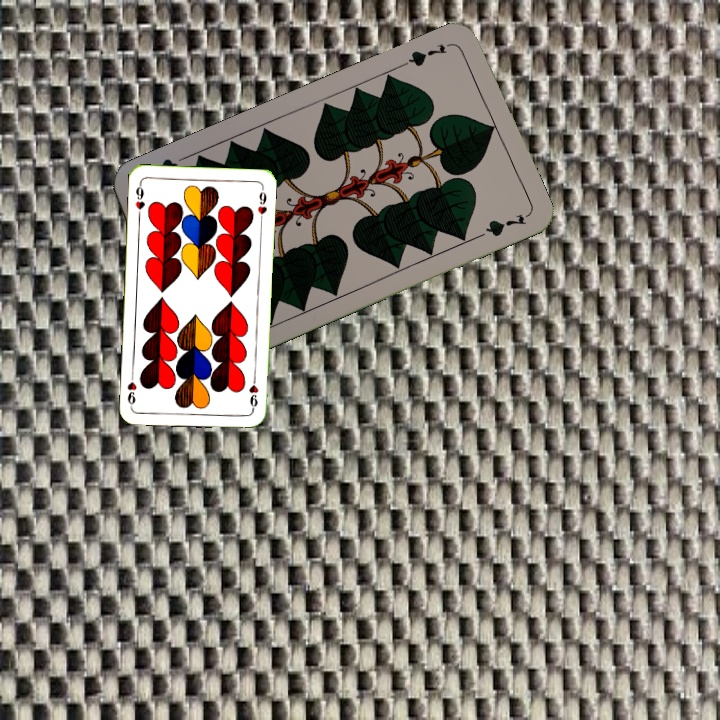G7: (399, 38, 455, 69)
H9: (245, 372, 261, 413), (132, 179, 147, 220)
